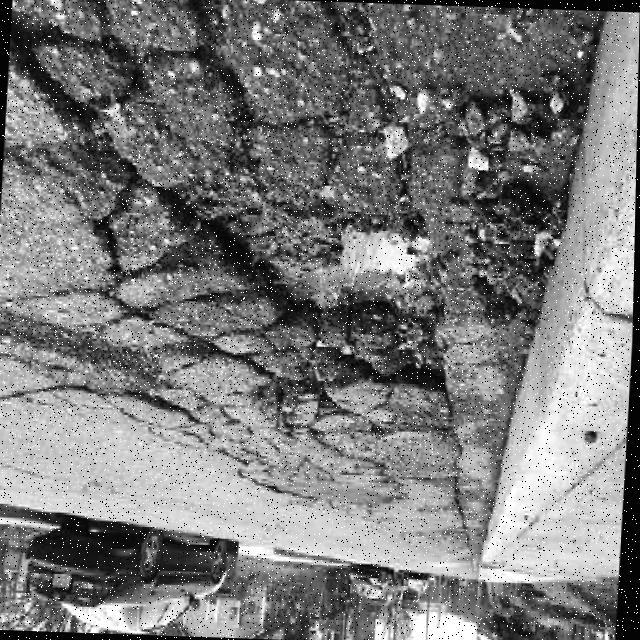pothole: (164, 166, 460, 400)
